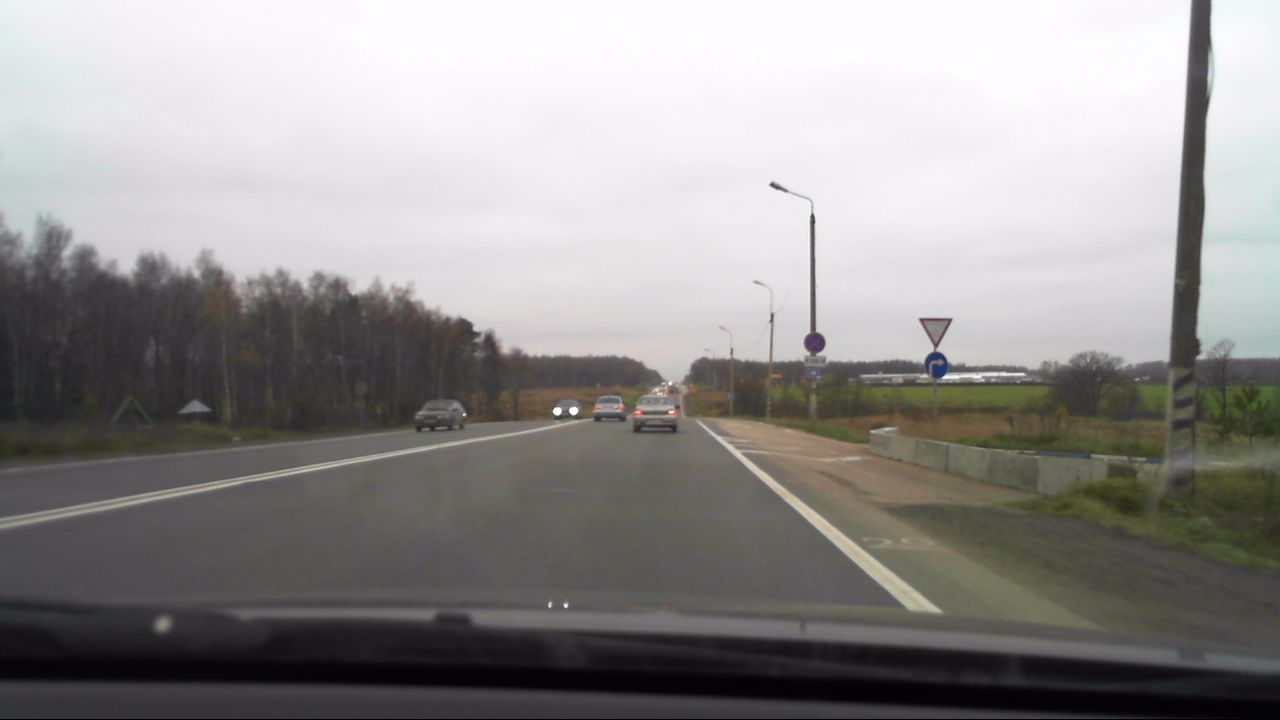No Parking: (800, 327, 829, 351)
